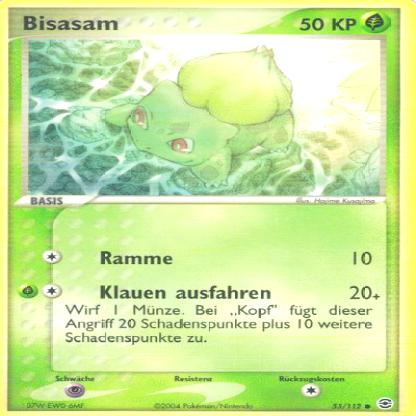Bulbasaur: (118, 47, 326, 191)
